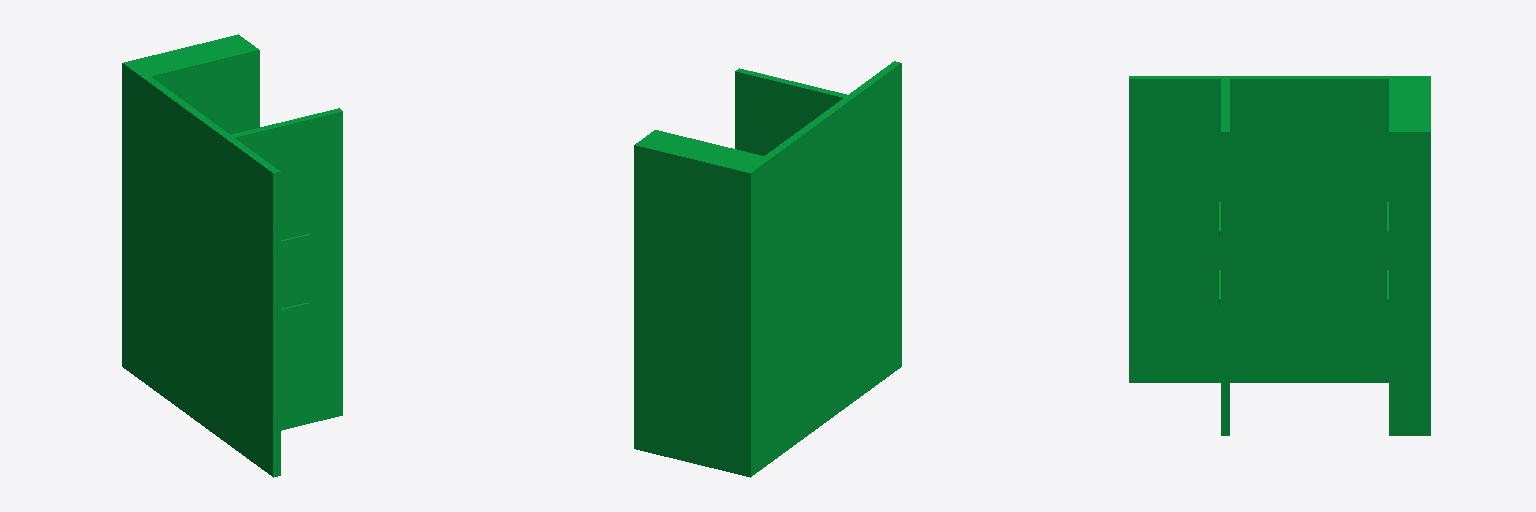
Rendered from rack_s.obj.
3 views of the same model, side by side, from view 1: azimuth 30°, elevation 25°; view 2: azimuth 150°, elevation 25°; view 3: azimuth 270°, elevation 25° (orthographic).
Visible parts, largest first — view 1: rack_s.002; view 2: rack_s.002; view 3: rack_s.002.
Boxes of the visible parts, <box> form: rack_s.002: <box>122,34,342,477</box>; rack_s.002: <box>634,61,901,477</box>; rack_s.002: <box>1129,76,1430,435</box>.
Size of the model in its own units: 0.8 by 2 by 1.8.